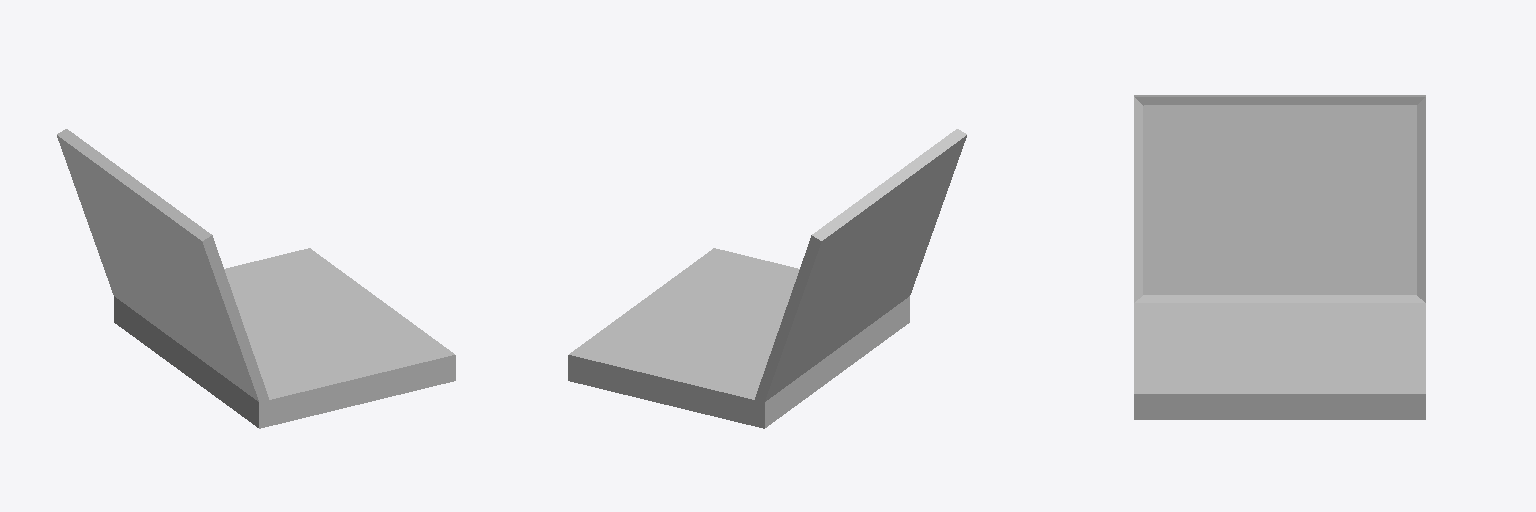
File: potato.obj
The picture shows the model from 3 angles: view 1: azimuth 30°, elevation 25°; view 2: azimuth 150°, elevation 25°; view 3: azimuth 270°, elevation 25°; orthographic projection.
Parts seen in each view (by area): view 1: laptop; view 2: laptop; view 3: screen, laptop.
Part boxes in pixels (left/top/right/bottom): laptop: left=57, top=129, right=455, bottom=428; laptop: left=568, top=129, right=966, bottom=428; screen: left=1144, top=105, right=1416, bottom=294; laptop: left=1134, top=95, right=1425, bottom=419.
Bounding box in the file's own units: 2.58 × 2 × 2.57.